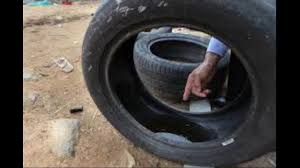tire: (77, 1, 276, 166)
